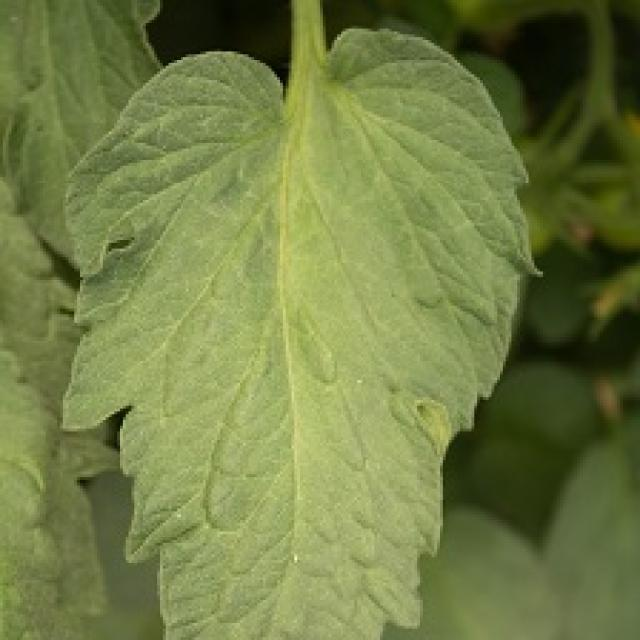Healthy: (60, 0, 535, 640)
